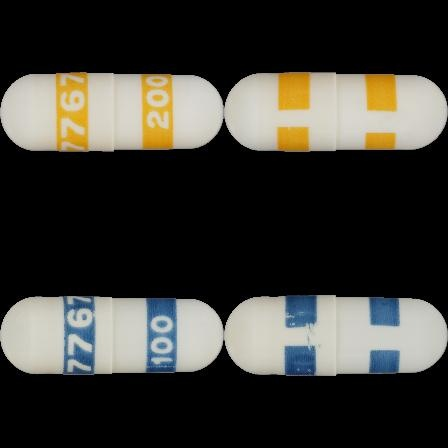52959-539: (0, 0, 224, 224)
